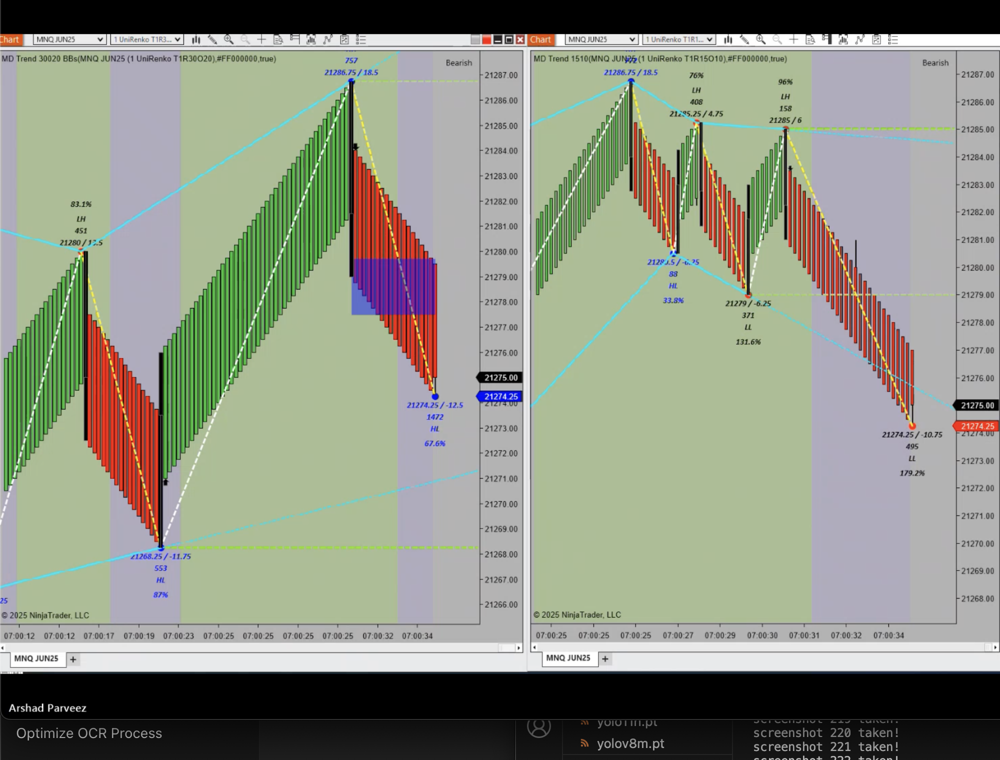HL: (421, 418, 448, 439), (662, 277, 686, 297), (153, 573, 171, 590)
LH: (774, 87, 801, 106), (687, 82, 713, 99), (69, 210, 93, 225)
LL: (739, 319, 764, 339), (902, 449, 927, 469)
